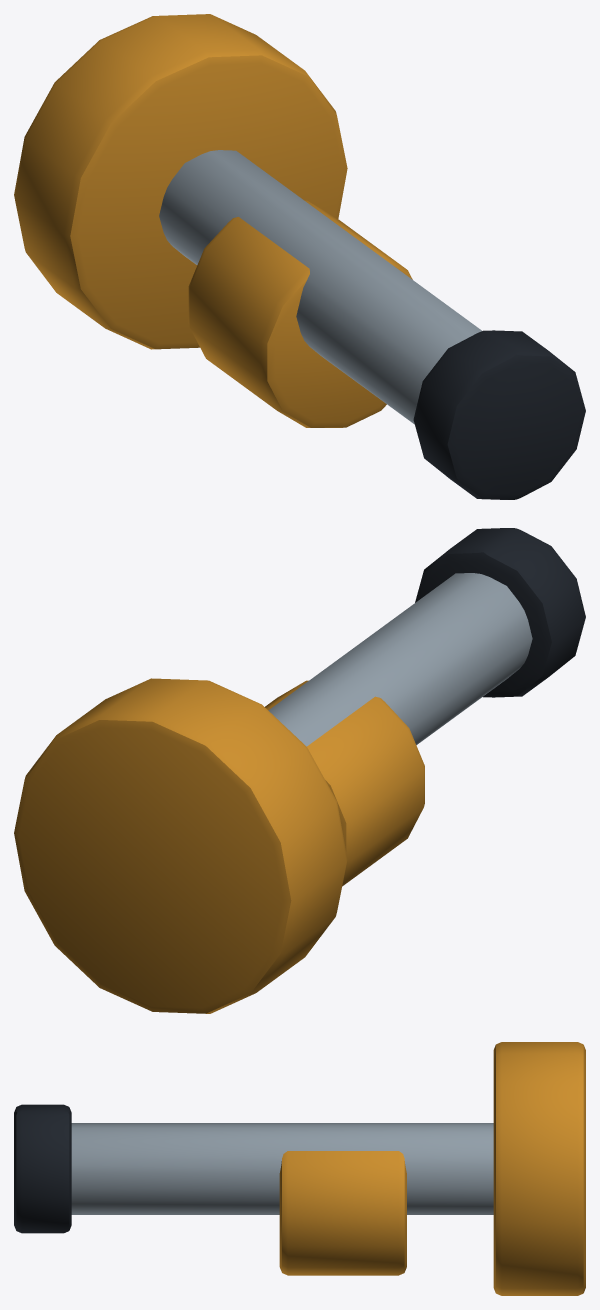
File: SniperB1.obj
3 renders of one model, top to bottom at view 1: azimuth 30°, elevation 25°; view 2: azimuth 150°, elevation 25°; view 3: azimuth 270°, elevation 25°, orthographic. The views are drawn at different scales.
Parts seen in each view (by area): view 1: SniperB1; view 2: SniperB1; view 3: SniperB1.
Boxes of the visible parts, x1,y1,x2,y2 form: SniperB1: [14, 14, 585, 499]; SniperB1: [14, 528, 585, 1013]; SniperB1: [14, 1042, 585, 1295].
Bounding box in the file's own units: 0.44 × 0.44 × 0.99.
